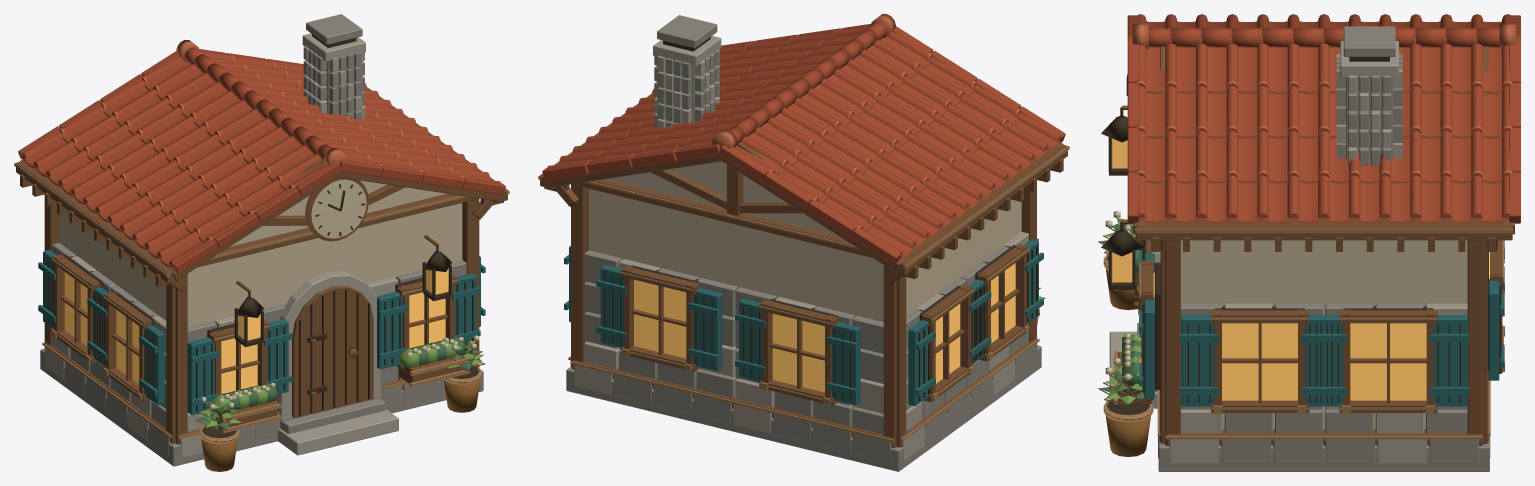
3 renders of one model, left to right at view 1: azimuth 30°, elevation 25°; view 2: azimuth 150°, elevation 25°; view 3: azimuth 270°, elevation 25°, orthographic. The views are drawn at different scales.
Parts seen in each view (by area): view 1: alpine_rush_station_geometry; view 2: alpine_rush_station_geometry; view 3: alpine_rush_station_geometry.
Part boxes in pixels (x1,y1,x2,y2): alpine_rush_station_geometry: [14, 14, 509, 471]; alpine_rush_station_geometry: [538, 14, 1069, 471]; alpine_rush_station_geometry: [1098, 14, 1520, 471].
Size of the model in its own units: 1.04 by 0.9181 by 0.8874.
